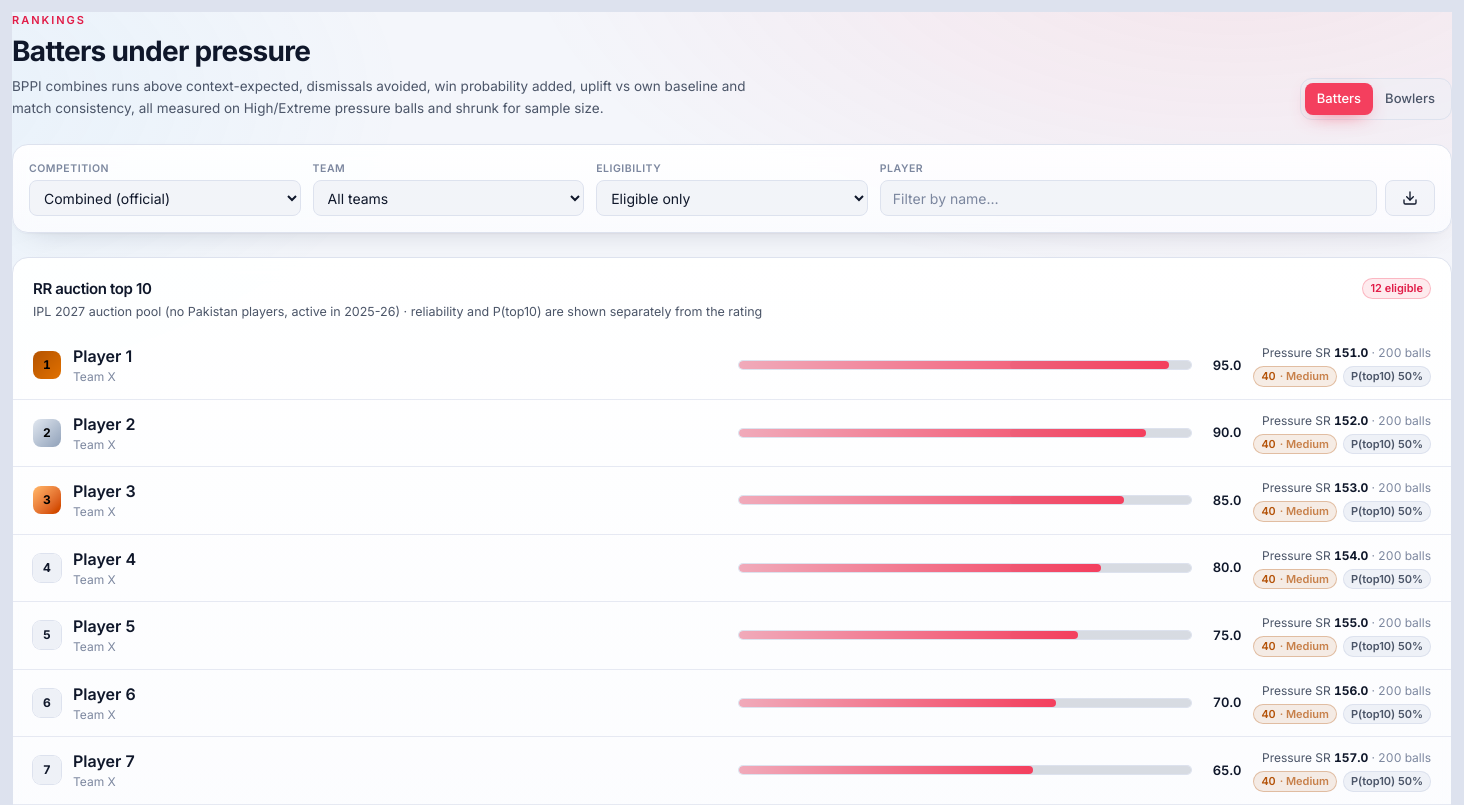
Test: Rankings page › loads rankings from the API and filters by competition
Check: the text "Player 1" is shown, box [73,346,132,366]
Check: the heading "RR auction top 10" is shown, box [33,280,152,298]
Select "IPL only" in the dropdown labelled "Competition" at (165, 198), box [29,180,301,216]
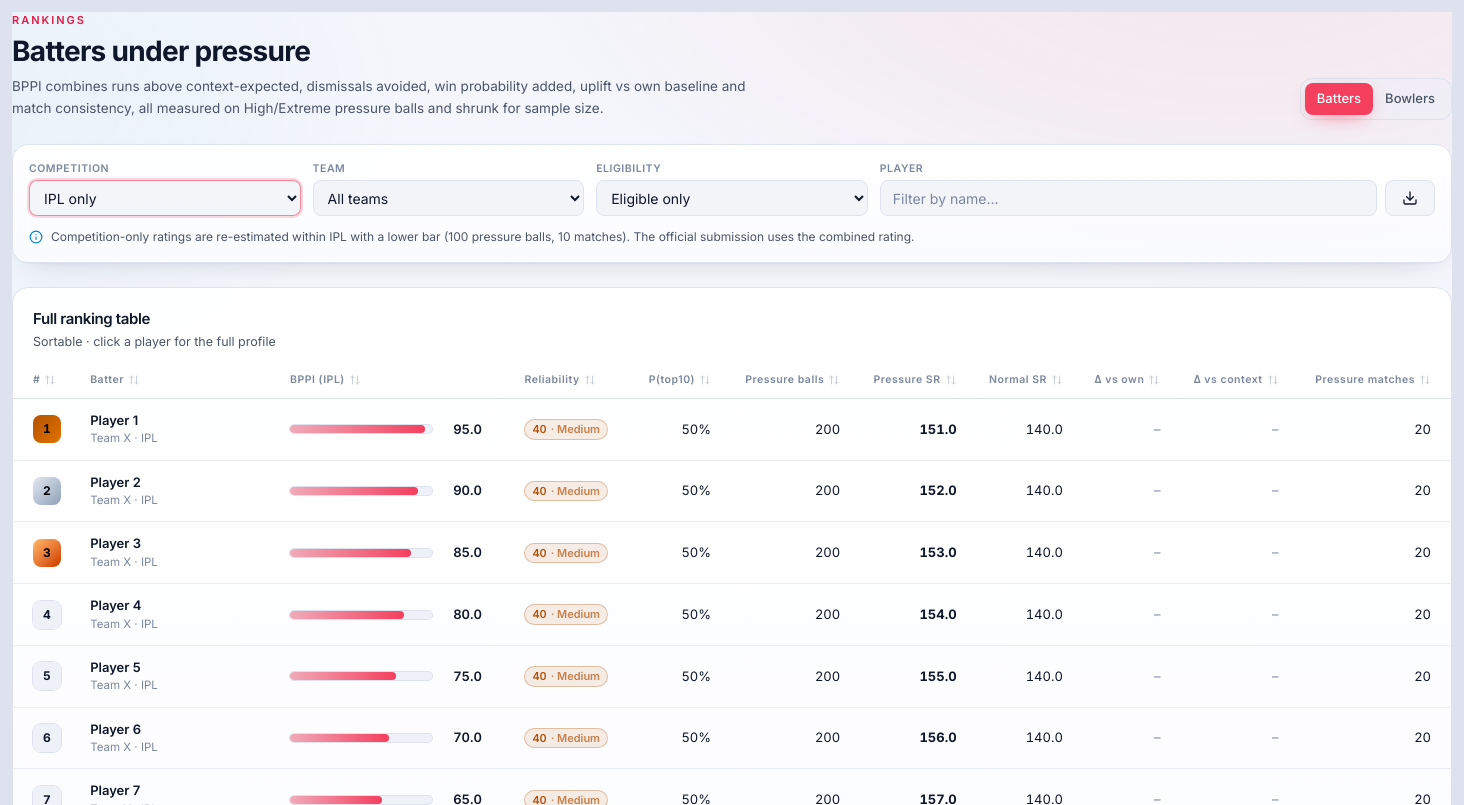
Check: the heading "RR auction top 10" is gone
